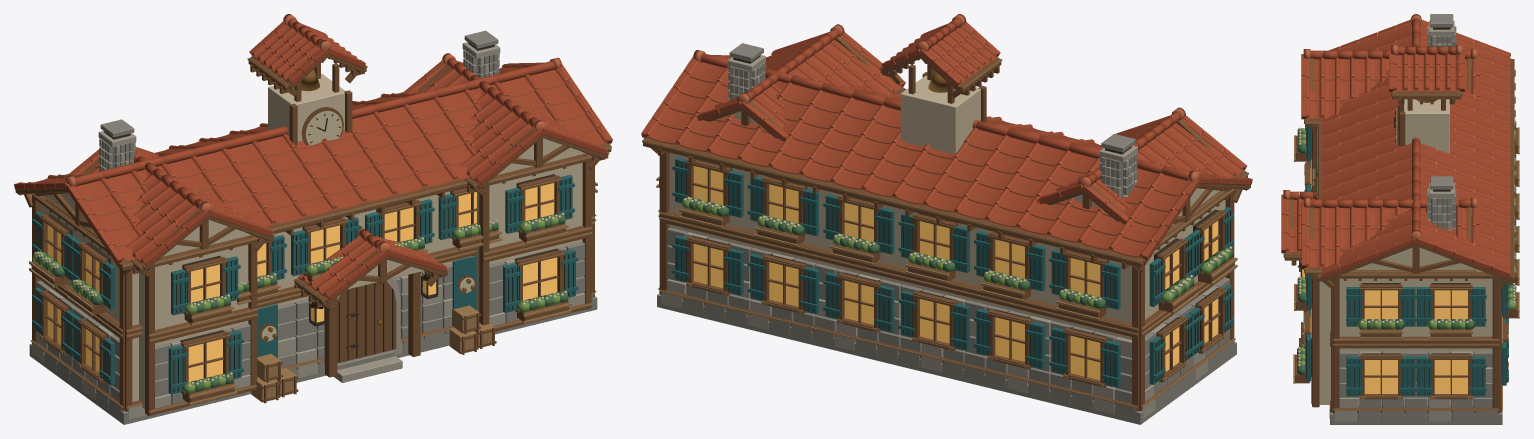
3 views of the same model, side by side, from view 1: azimuth 30°, elevation 25°; view 2: azimuth 150°, elevation 25°; view 3: azimuth 270°, elevation 25° (orthographic). The views are drawn at different scales.
Visible parts, largest first — view 1: alpine_finance_2_geometry; view 2: alpine_finance_2_geometry; view 3: alpine_finance_2_geometry.
Boxes of the visible parts, x1,y1,x2,y2 form: alpine_finance_2_geometry: (14, 14, 612, 424); alpine_finance_2_geometry: (641, 14, 1252, 424); alpine_finance_2_geometry: (1281, 14, 1519, 424).
Size of the model in its own units: 2.28 by 1.29 by 1.02.
